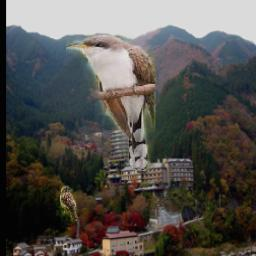Cuckoo: (66, 35, 155, 173)
Sparrow: (60, 186, 78, 221)
